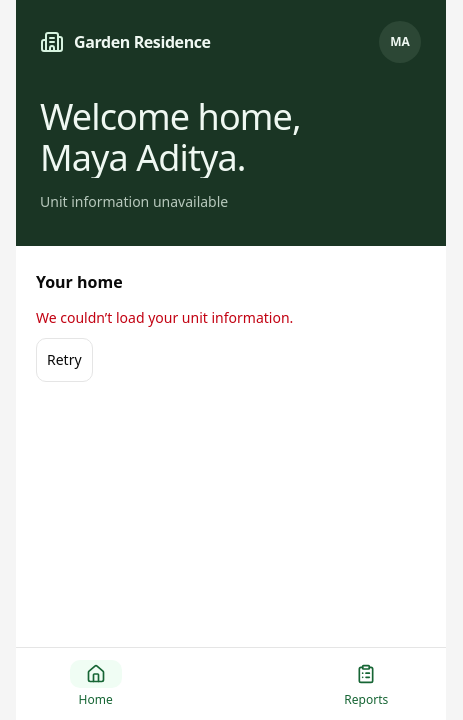
Test case: shows homepage read failures with retry rather than no-placement guidance
Expected: the message shows "couldn’t load your unit", [36,308,293,327]
Click the button "Retry".
click(64, 360)  # box [36,338,93,382]
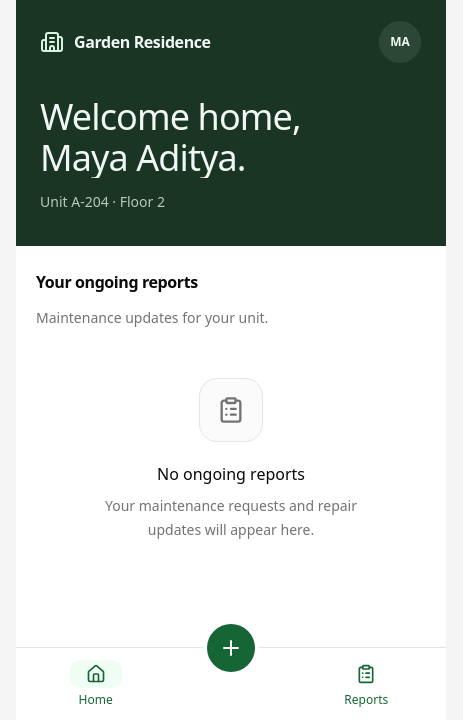
Expected: the text "Unit A-204 · Floor 2" is shown, [40,192,165,211]
